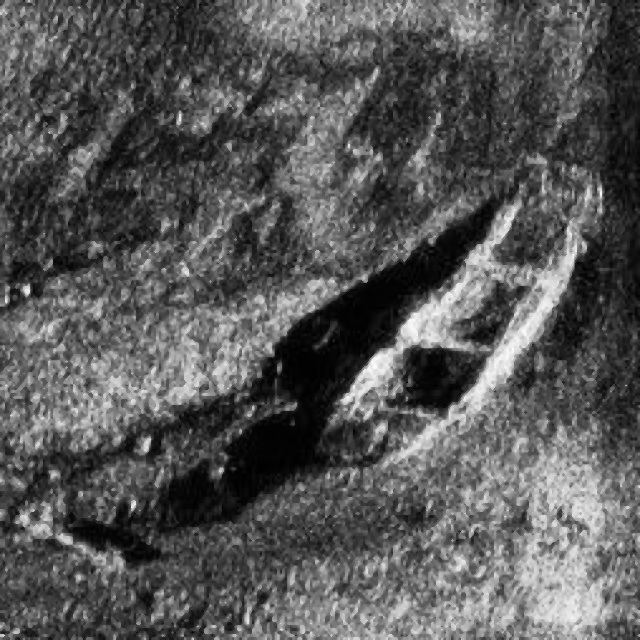Ship: (304, 144, 610, 476)
